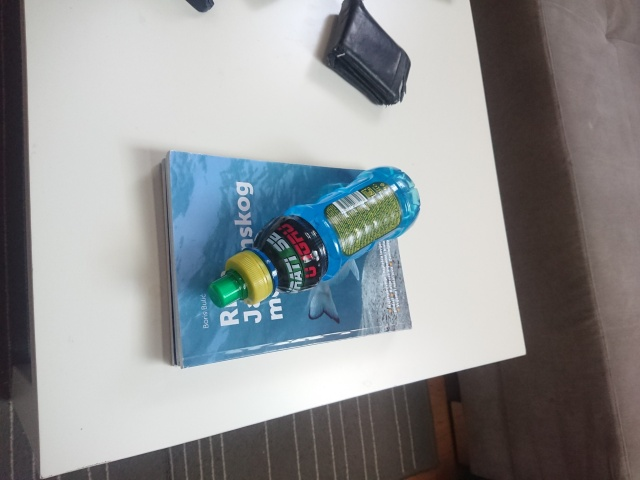Vindi Iso Sport Forest Strawberries 500mL: (206, 164, 423, 310)
